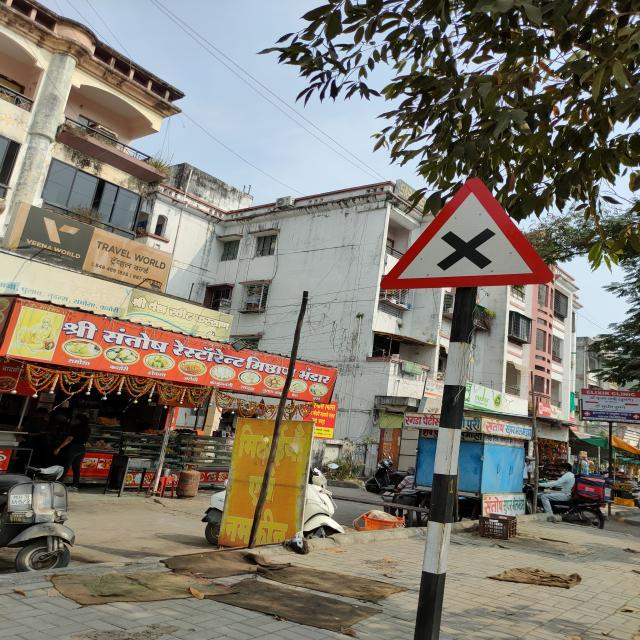cross road: (374, 172, 561, 294)
